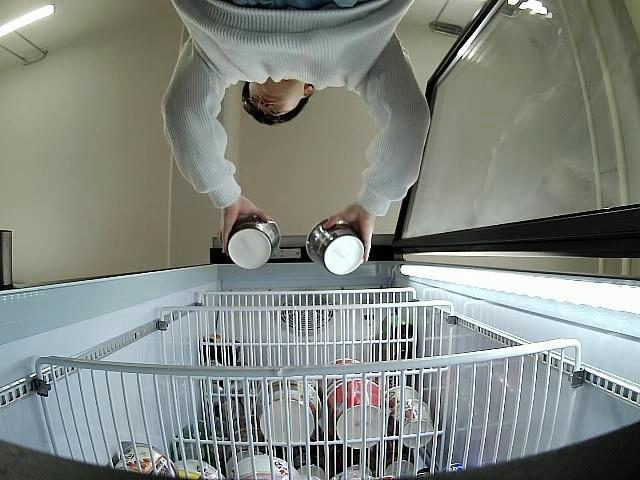07_buldak_L: (306, 217, 364, 274), (228, 218, 280, 269)
